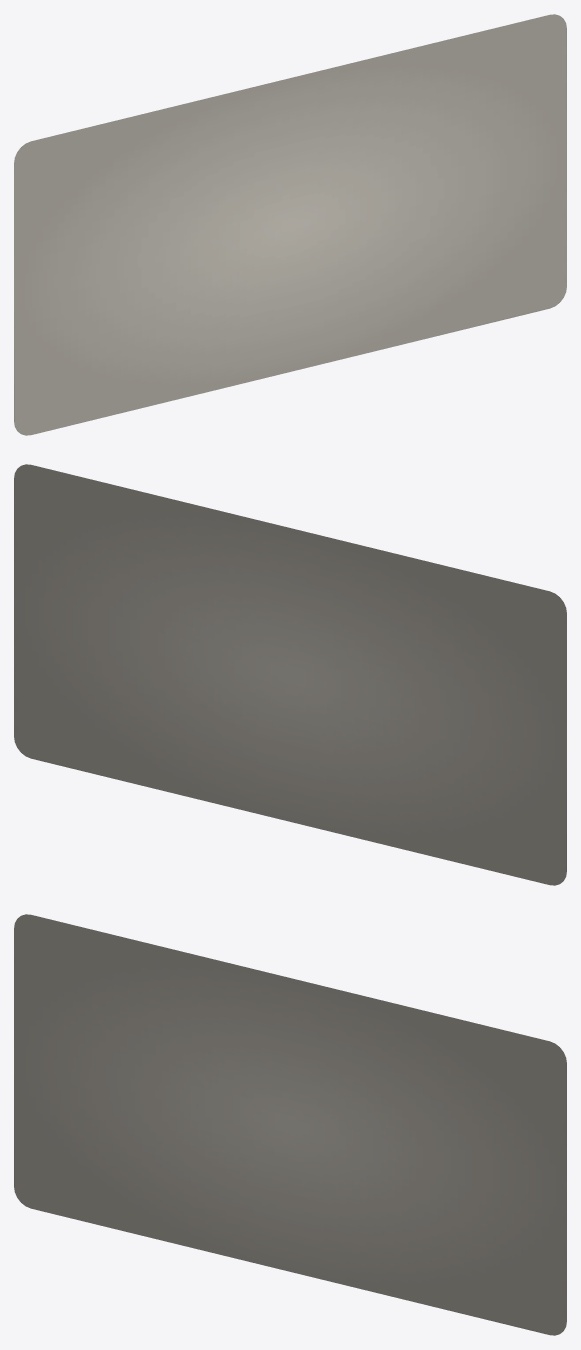
The model's file is startup without text-opt.glb.
3 views of the same model, one above another, from view 1: azimuth 30°, elevation 25°; view 2: azimuth 150°, elevation 25°; view 3: azimuth 330°, elevation 25° (orthographic).
Visible parts, largest first — view 1: Wall__Scifi_Wall_mat_0.526; view 2: Wall__Scifi_Wall_mat_0.526; view 3: Wall__Scifi_Wall_mat_0.526.
Part boxes in pixels (box(x1,y1,x2,y2)): Wall__Scifi_Wall_mat_0.526: box(14, 14, 566, 435); Wall__Scifi_Wall_mat_0.526: box(14, 464, 566, 885); Wall__Scifi_Wall_mat_0.526: box(14, 914, 566, 1335).
Size of the model in its own units: 7.94 by 4.03 by 0.
Materials: 1 (1 with a texture image).
